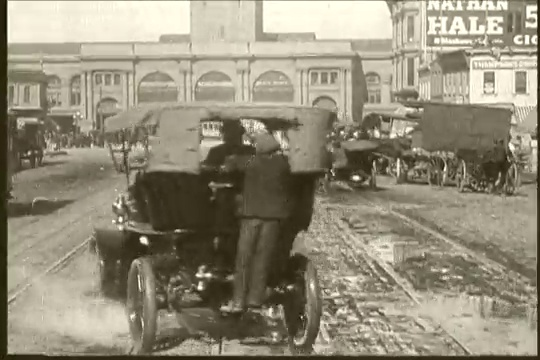car: (80, 91, 325, 345), (318, 136, 386, 193)
